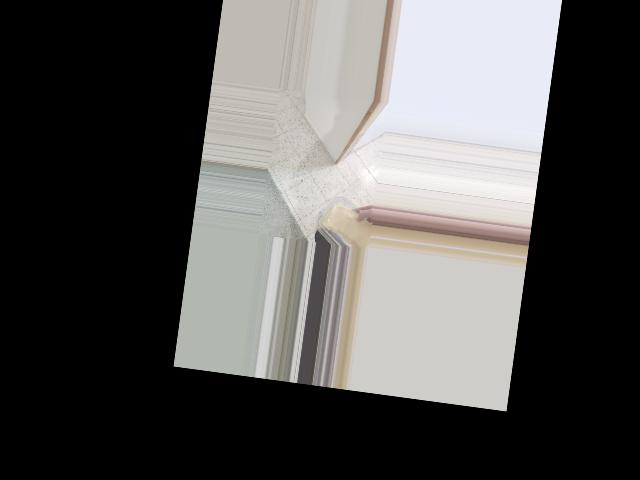cheese: (315, 194, 376, 250)
